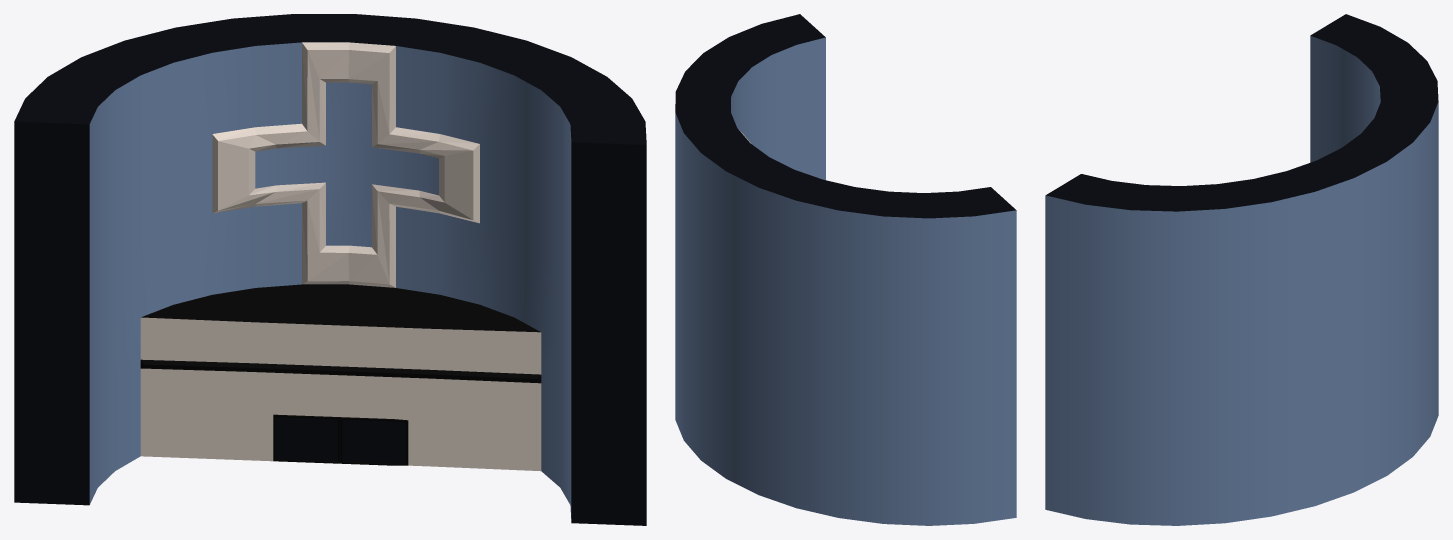
The model's file is Medical center.FBX.
3 views of the same model, side by side, from view 1: azimuth 30°, elevation 25°; view 2: azimuth 150°, elevation 25°; view 3: azimuth 270°, elevation 25° (orthographic). The views are drawn at different scales.
Visible parts, largest first — view 1: Tube001; view 2: Tube001; view 3: Tube001.
Part boxes in pixels (x1,y1,x2,y2): Tube001: [14, 14, 646, 525]; Tube001: [675, 14, 1016, 525]; Tube001: [1045, 14, 1438, 525].
Bounding box in the file's own units: 163 × 121 × 137.
